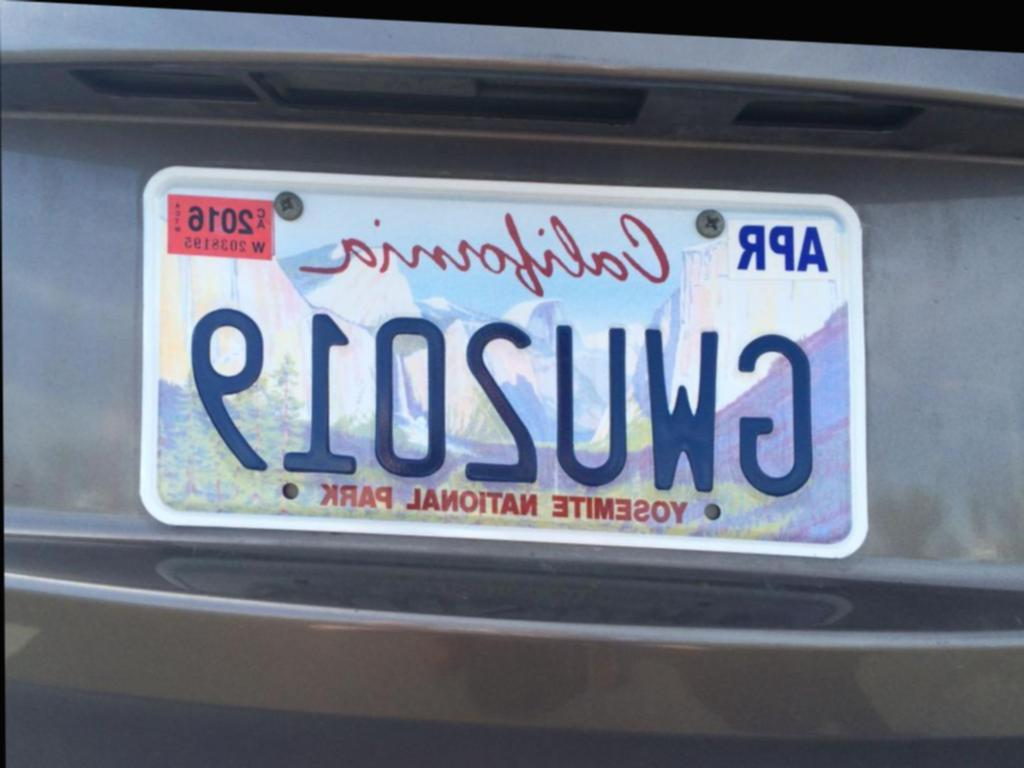License_Plate: (127, 157, 875, 561)
